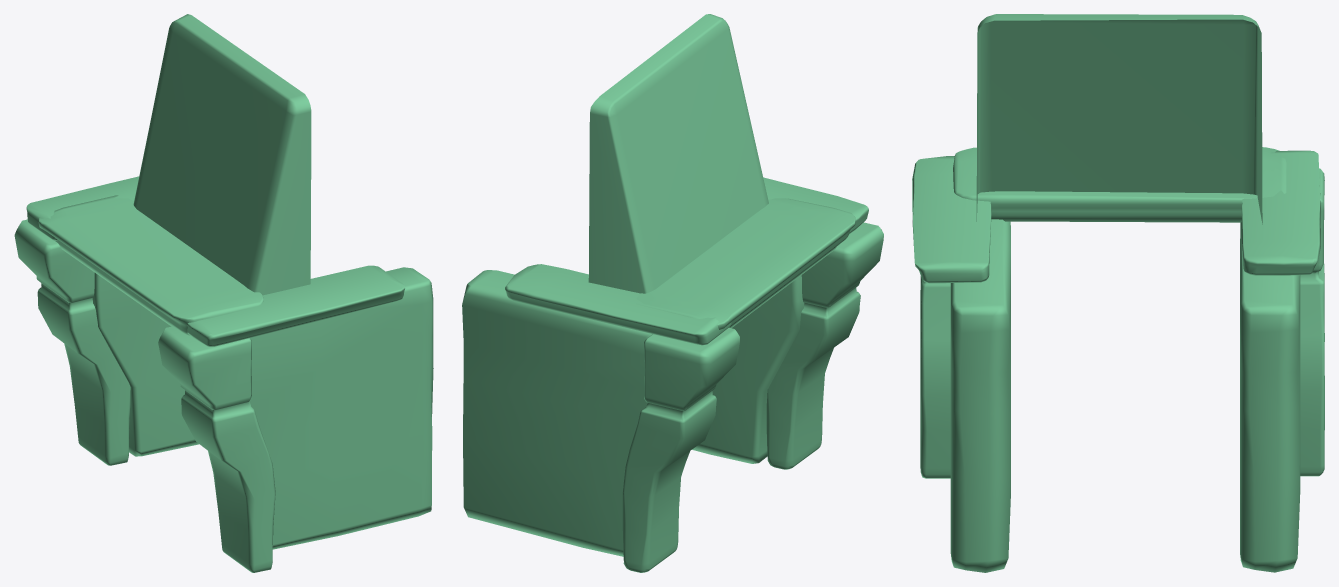
File: Fireplace_02A_Lod0.fbx
3 views of the same model, side by side, from view 1: azimuth 30°, elevation 25°; view 2: azimuth 150°, elevation 25°; view 3: azimuth 270°, elevation 25° (orthographic). The views are drawn at different scales.
Visible parts, largest first — view 1: Fireplace_02A_Lod0; view 2: Fireplace_02A_Lod0; view 3: Fireplace_02A_Lod0.
Part boxes in pixels (<box>): Fireplace_02A_Lod0: <box>14,14,433,572</box>; Fireplace_02A_Lod0: <box>462,14,883,572</box>; Fireplace_02A_Lod0: <box>912,14,1324,572</box>.
Size of the model in its own units: 215 by 342 by 259.
